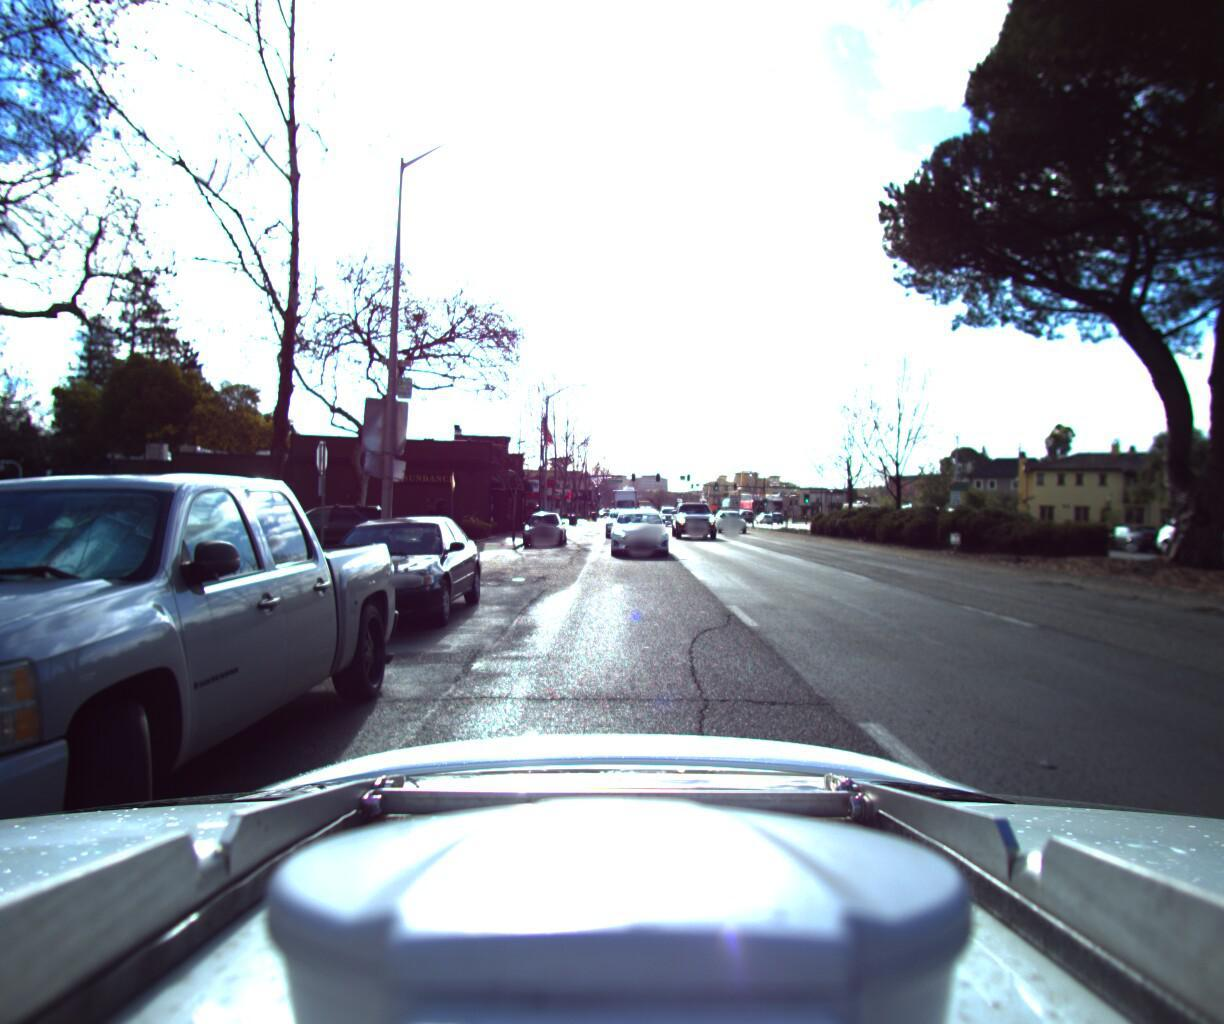car: (0, 439, 419, 1024), (283, 506, 493, 640), (249, 495, 401, 555), (1144, 485, 1224, 562), (601, 501, 670, 554), (1085, 515, 1175, 548), (667, 490, 718, 537), (521, 503, 569, 542), (710, 498, 754, 528), (599, 501, 638, 533), (657, 498, 684, 518)
truck: (606, 483, 636, 519)
